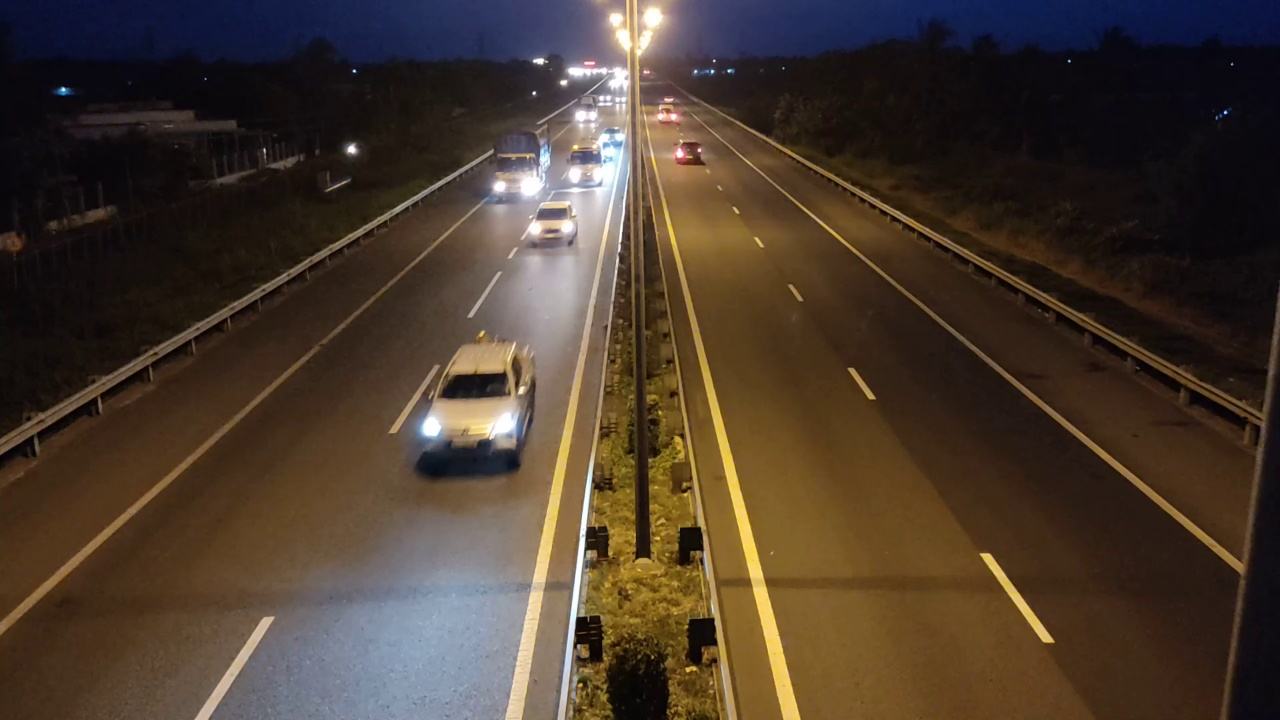car: (413, 331, 537, 476), (523, 200, 579, 248), (672, 140, 706, 166)
